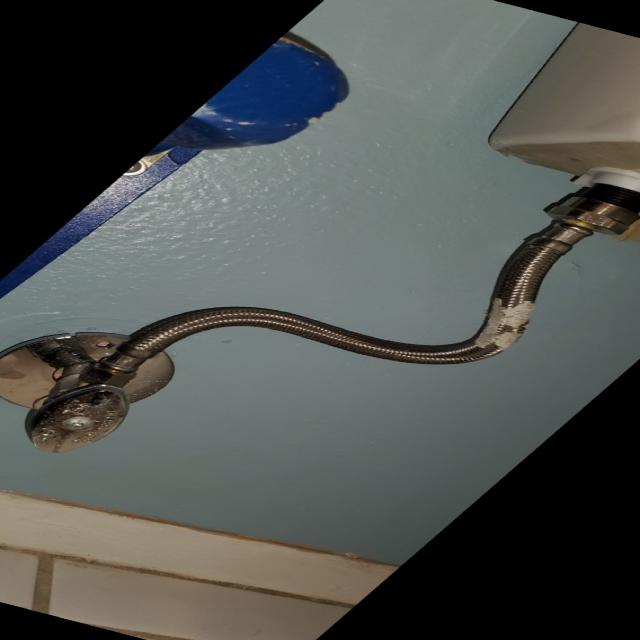good_coupler: (538, 184, 639, 232)
good_line: (74, 221, 584, 384)
good_valve: (20, 364, 134, 455)
